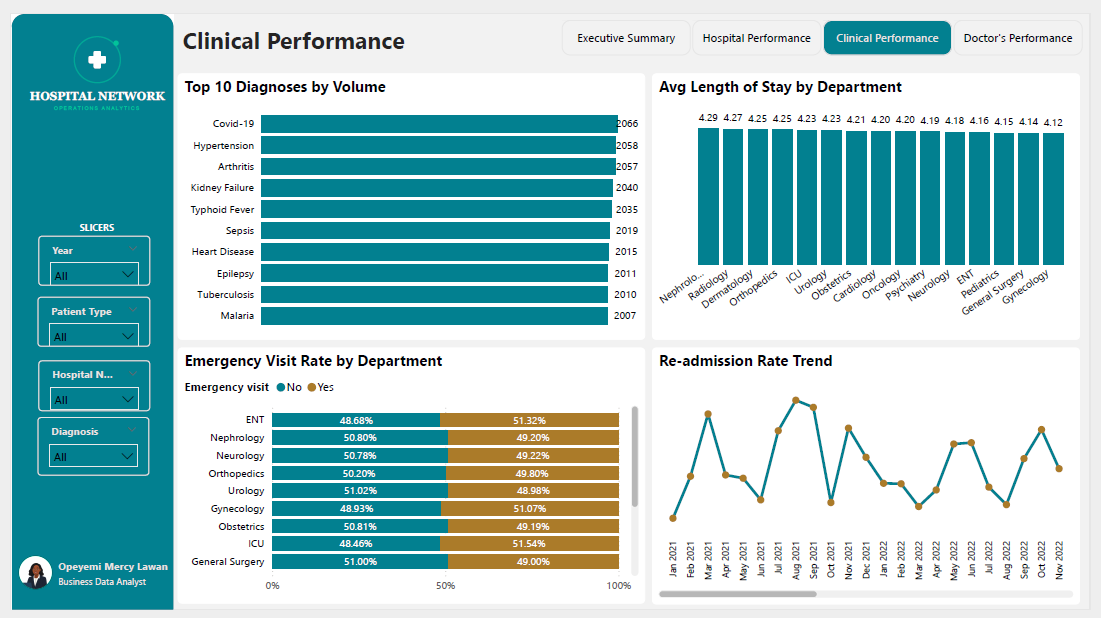

The page's visual inventory and layout, read from the dashboard file:
{"tool":"powerbi","page":{"name":"Clinical Dashboard","canvas":[1280,720],"ordinal":2},"visuals":[{"type":"group","id":"g1","title":"Group 1","box":[14.2,16.8,1266.2,703.2],"z":0},{"type":"shape","box":[14.2,16.8,1266.2,703.2],"z":0,"group":"g1"},{"type":"shape","box":[15.1,17.7,188,702.3],"z":1000,"group":"g1"},{"type":"slicer","fields":{"Values":["DimDate.Year"]},"box":[43.4,212.8,130.3,59.4],"z":1000},{"type":"slicer","fields":{"Values":["dimpatienttype.patienttype"]},"box":[43.4,279.3,130.3,63.8],"z":2000},{"type":"slicer","fields":{"Values":["dimhospital.hospitalname"]},"box":[43.4,350.2,130.3,62.1],"z":3000},{"type":"textbox","box":[67.4,171.1,95.8,33.7],"z":4000},{"type":"pageNavigator","box":[33.7,528.5,150.7,172.9],"z":5000},{"type":"image","box":[24.8,28.4,170.2,130.3],"z":6000},{"type":"clusteredBarChart","title":"Top 10 Diagnoses by Volume","fields":{"Category":["dimdiagnosis.diagnosis"],"Y":["Core KPIs.Total Patients"]},"box":[211,117.9,544.4,294.4],"z":7000},{"type":"clusteredColumnChart","title":"Avg Length of Stay by Department","fields":{"Category":["dimdepartment.departmentname"],"Y":["Core KPIs.Average Length of Stay"]},"box":[762.6,117.9,509.9,294.4],"z":8000},{"type":"hundredPercentStackedBarChart","title":"Emergency Visit Rate by Department","fields":{"Category":["dimdepartment.departmentname"],"Series":["factpatientvisits.emergencyvisit"],"Y":["Core KPIs.Total Patients"]},"box":[211,421.2,544.4,290],"z":9000},{"type":"lineChart","title":"Re-admission Rate Trend","fields":{"Category":["DimDate.YearMonth"],"Y":["Core KPIs.Readmission Rate"]},"box":[762.6,421.2,509.9,290.8],"z":10000},{"type":"slicer","fields":{"Values":["dimdiagnosis.diagnosis"]},"box":[43.4,421.2,130.3,68.3],"z":11000},{"type":"textbox","box":[204.7,30.2,373.3,72.7],"z":13001,"group":"g1"}]}

Visuals, with their boxes in screenshot pixels (x1, y1, x2, y2), scaled from the page's 1280x720 canvas onto the 1102x620 screenshot:
"Group 1" group: box=[12, 14, 1101, 619]
shape: box=[12, 14, 1101, 619]
shape: box=[13, 15, 175, 619]
slicer - DimDate.Year: box=[37, 183, 150, 234]
slicer - dimpatienttype.patienttype: box=[37, 241, 150, 295]
slicer - dimhospital.hospitalname: box=[37, 302, 150, 355]
textbox: box=[58, 147, 141, 176]
pageNavigator: box=[29, 455, 159, 604]
image: box=[21, 24, 168, 137]
"Top 10 Diagnoses by Volume" clusteredBarChart: box=[182, 102, 650, 355]
"Avg Length of Stay by Department" clusteredColumnChart: box=[657, 102, 1096, 355]
"Emergency Visit Rate by Department" hundredPercentStackedBarChart: box=[182, 363, 650, 612]
"Re-admission Rate Trend" lineChart: box=[657, 363, 1096, 613]
slicer - dimdiagnosis.diagnosis: box=[37, 363, 150, 422]
textbox: box=[176, 26, 498, 89]
